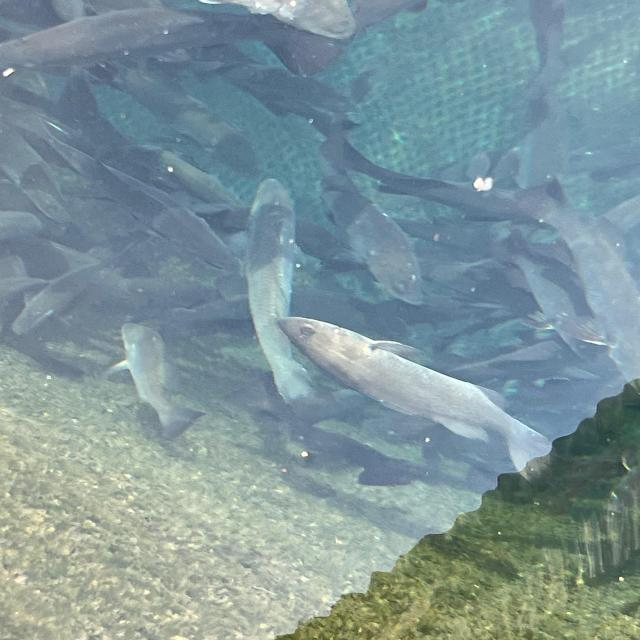ikan: (274, 314, 554, 474), (1, 0, 353, 78), (242, 177, 318, 406), (106, 321, 206, 441)
